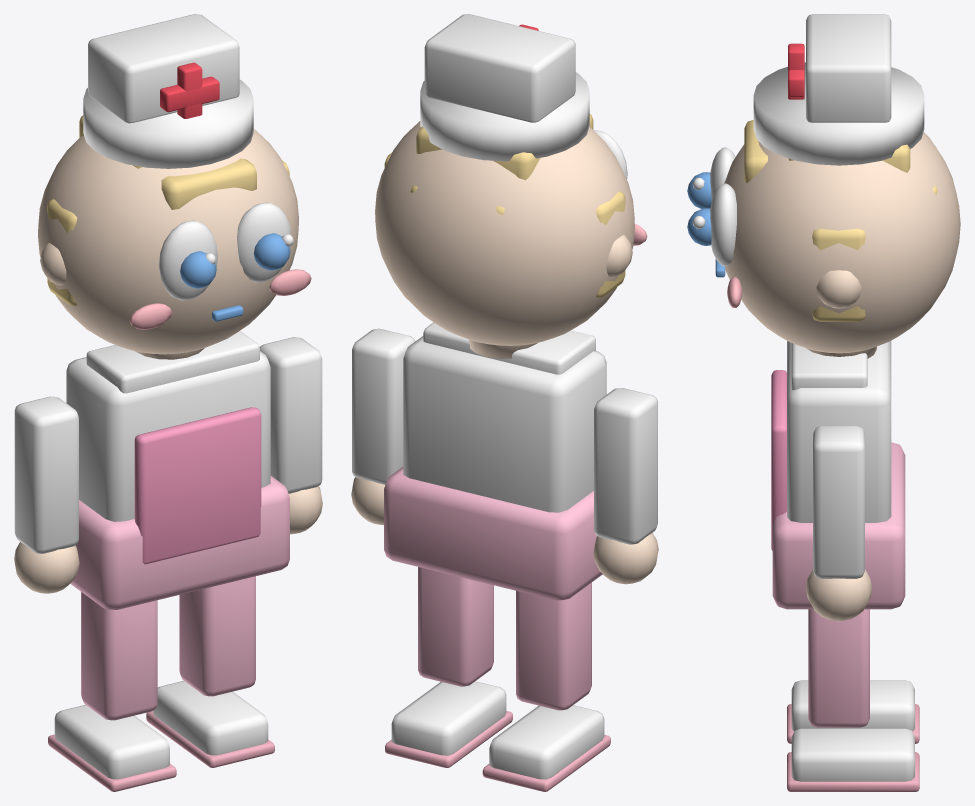
Rendered from nurse_joy.glb.
3 renders of one model, left to right at view 1: azimuth 30°, elevation 25°; view 2: azimuth 150°, elevation 25°; view 3: azimuth 270°, elevation 25°, orthographic.
Visible parts, largest first — view 1: Head, Apron, Torso_Shirt, Dress_Skirt, Hat_Crown, Arm_L, Hat_Base, Leg_L, Leg_R, Arm_R, Shoe_L, Shoe_R (+16 smaller); view 2: Head, Torso_Shirt, Dress_Skirt, Hat_Crown, Arm_L, Leg_L, Leg_R, Hat_Base, Arm_R, Shoe_L, Shoe_R, Collar (+8 smaller); view 3: Head, Torso_Shirt, Hat_Base, Hat_Crown, Dress_Skirt, Arm_R, Leg_R, Shoe_R, Shoe_L, Collar, Hand_R, Apron (+9 smaller).
Part boxes in pixels (<box>): Head: <box>38,128,298,354</box>; Apron: <box>134,407,261,564</box>; Torso_Shirt: <box>66,351,270,521</box>; Dress_Skirt: <box>70,476,289,609</box>; Hat_Crown: <box>88,14,239,123</box>; Arm_L: <box>14,396,78,553</box>; Hat_Base: <box>83,79,253,168</box>; Leg_L: <box>81,592,157,720</box>; Leg_R: <box>179,576,255,696</box>; Arm_R: <box>259,337,322,493</box>; Shoe_L: <box>54,704,169,779</box>; Shoe_R: <box>153,681,268,755</box>; Head: <box>375,121,634,345</box>; Torso_Shirt: <box>403,336,606,512</box>; Dress_Skirt: <box>384,467,602,600</box>; Hat_Crown: <box>424,14,575,122</box>; Arm_L: <box>594,388,657,544</box>; Leg_L: <box>516,582,591,710</box>; Leg_R: <box>418,567,493,686</box>; Hat_Base: <box>420,72,589,161</box>; Arm_R: <box>352,328,415,484</box>; Shoe_L: <box>489,705,604,779</box>; Shoe_R: <box>391,681,506,755</box>; Collar: <box>423,322,595,374</box>; Head: <box>724,132,960,353</box>; Torso_Shirt: <box>787,341,891,522</box>; Hat_Base: <box>753,62,924,165</box>; Hat_Crown: <box>806,14,891,122</box>; Dress_Skirt: <box>772,442,905,609</box>; Arm_R: <box>813,426,864,578</box>; Leg_R: <box>808,609,869,727</box>; Shoe_R: <box>791,728,914,781</box>; Shoe_L: <box>791,680,914,731</box>; Collar: <box>791,343,867,390</box>; Hand_R: <box>806,569,872,621</box>; Apron: <box>771,370,786,550</box>.
Bounding box in the file's own units: 0.7305 × 1.66 × 0.5765.
